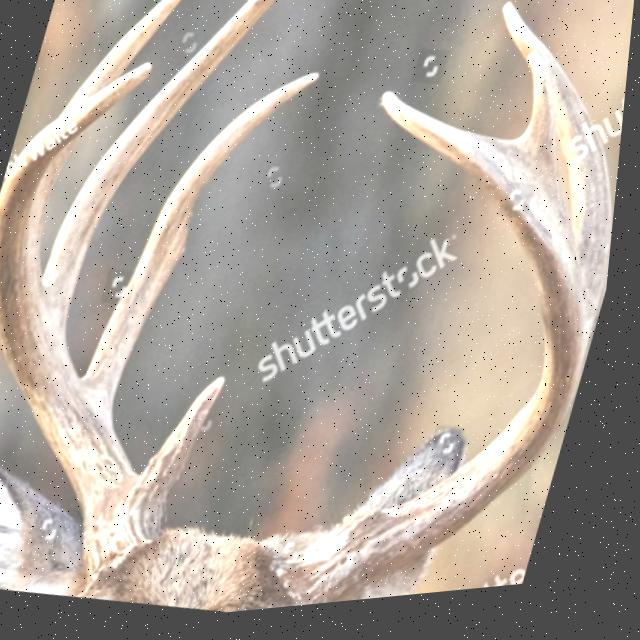E1: (522, 62, 560, 176)
L-F: (285, 98, 597, 613)
R-F: (0, 64, 178, 596)
R-G1: (149, 383, 233, 506)
R-G2: (89, 78, 322, 419)
R-G3: (48, 0, 283, 334)
